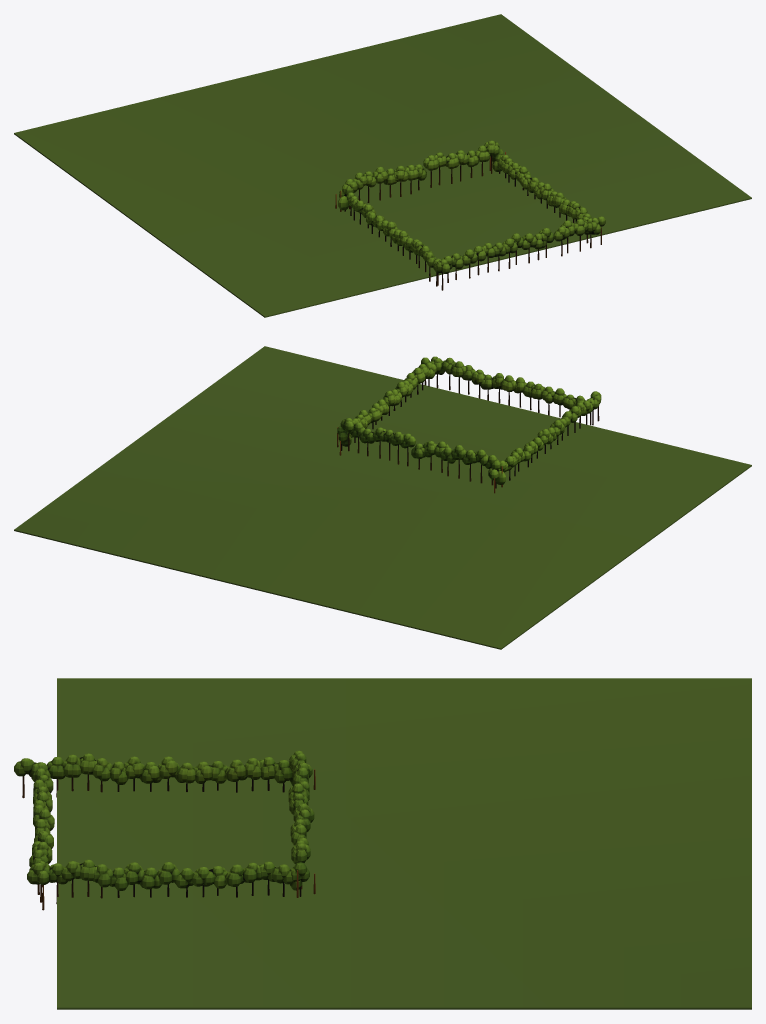
Rendered from trees.glb.
The picture shows the model from 3 angles, top to bottom: view 1: azimuth 30°, elevation 25°; view 2: azimuth 150°, elevation 25°; view 3: azimuth 270°, elevation 25°; orthographic projection. The views are drawn at different scales.
Parts seen in each view (by area): view 1: V | 树和远景; view 2: V | 树和远景; view 3: V | 树和远景.
Part boxes in pixels (left/top/right/bottom): V | 树和远景: left=14, top=14, right=751, bottom=317; V | 树和远景: left=14, top=346, right=751, bottom=649; V | 树和远景: left=14, top=678, right=751, bottom=1009.
Size of the model in its own units: 74 by 5.85 by 70.09.
